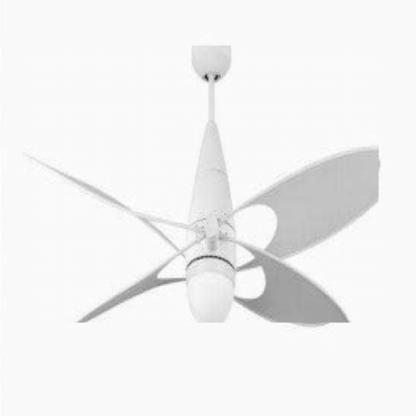ceiling-fan: (23, 46, 379, 324)
